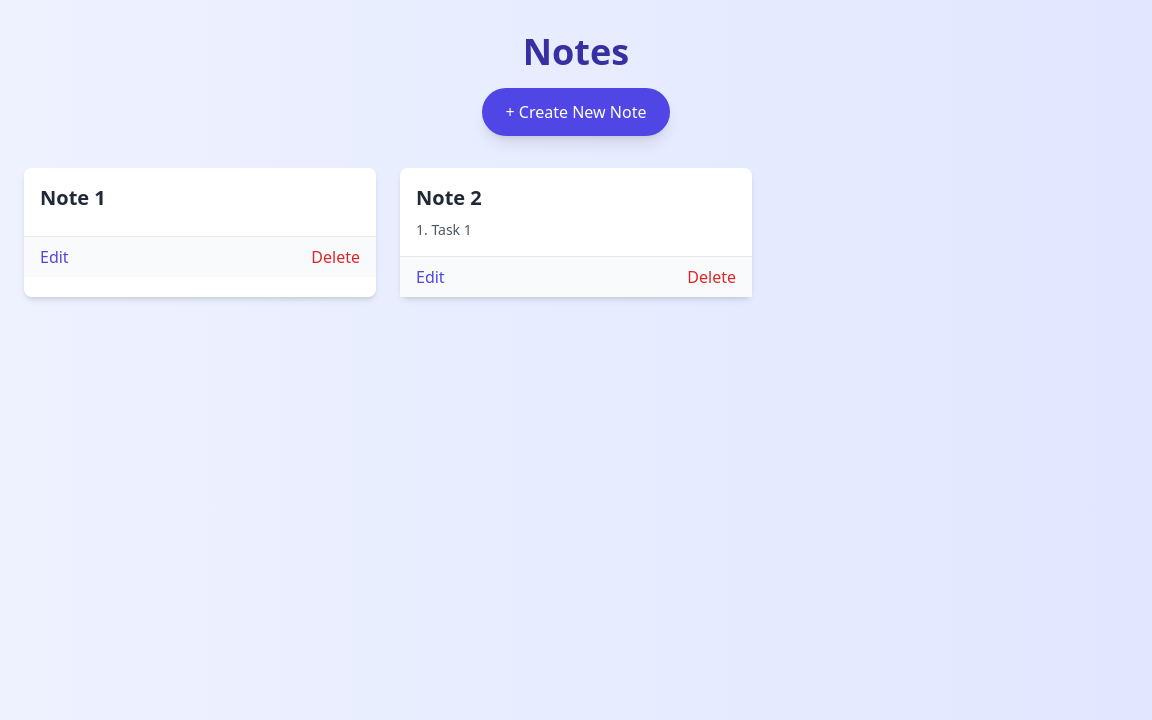
Notes Page › should allow creating a new note
This screenshot has width=1152, height=720.
Expected: the number of list items with class "transform" is 2, [24,168,376,297]; [400,168,752,297]
Click the button titled "+ Create New Note".
click(577, 112)  # box [482,88,671,136]
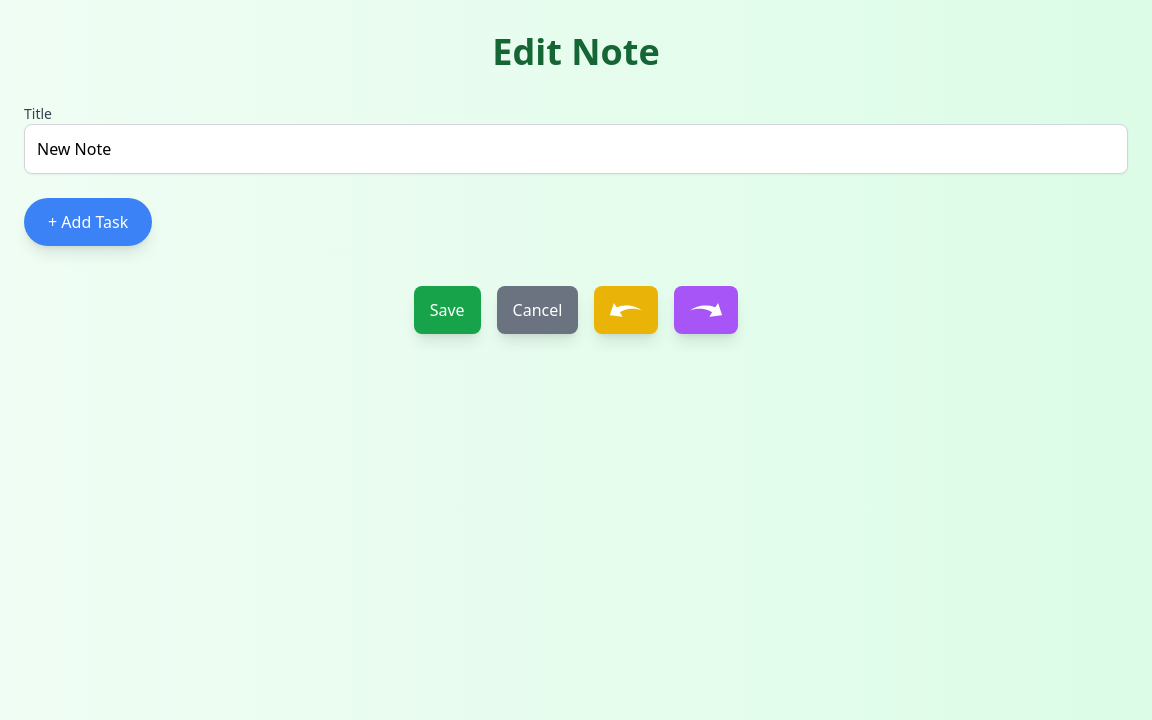
Result: the field with placeholder "Enter Note Title" is shown at [24,124,1128,174]
